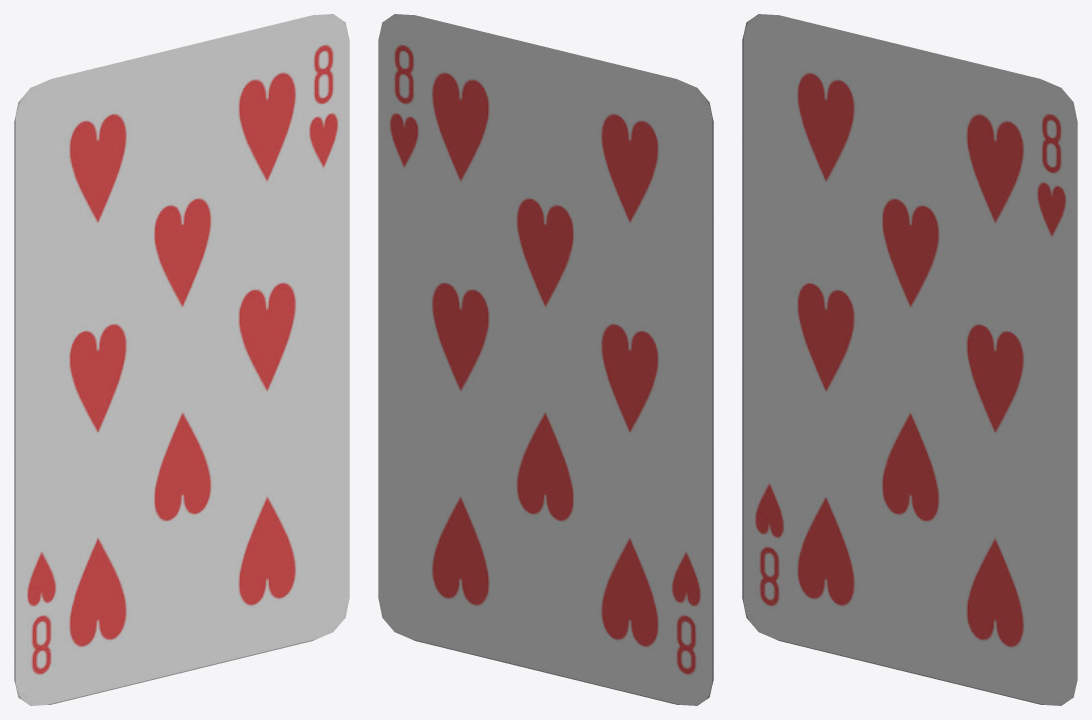
Rendered from 8_hearts.glb.
3 views of the same model, side by side, from view 1: azimuth 30°, elevation 25°; view 2: azimuth 150°, elevation 25°; view 3: azimuth 330°, elevation 25° (orthographic).
Visible parts, largest first — view 1: Eigh of Hearts_8_0; view 2: Eigh of Hearts_8_0; view 3: Eigh of Hearts_8_0.
Part boxes in pixels (<box>): Eigh of Hearts_8_0: <box>14,14,349,705</box>; Eigh of Hearts_8_0: <box>378,14,713,705</box>; Eigh of Hearts_8_0: <box>742,14,1077,705</box>.
Size of the model in its own units: 0.2527 by 0.4503 by 2.78e-17.
1 material, 1 textured.
